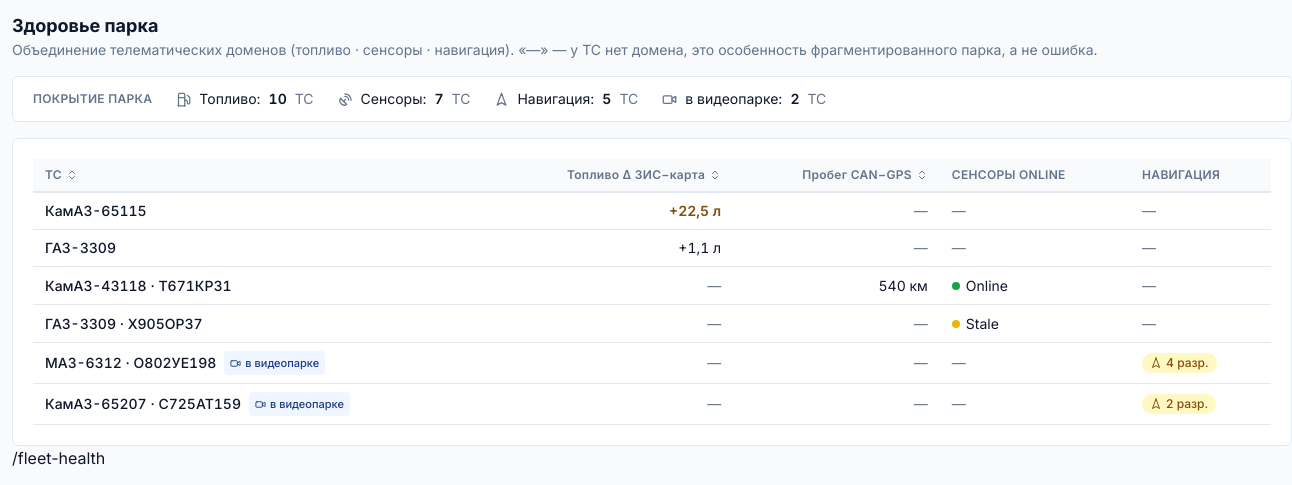
Test: FleetHealth · хаб «Здоровье парка» › клик по строке с сенсорами → /fleet-health/sensors/:plate
Expected: the text "Покрытие парка" is shown, [33,91,152,107]
Click the text "КамАЗ-43118 · Т671КР31".
click(138, 286)  # box [45,276,232,296]
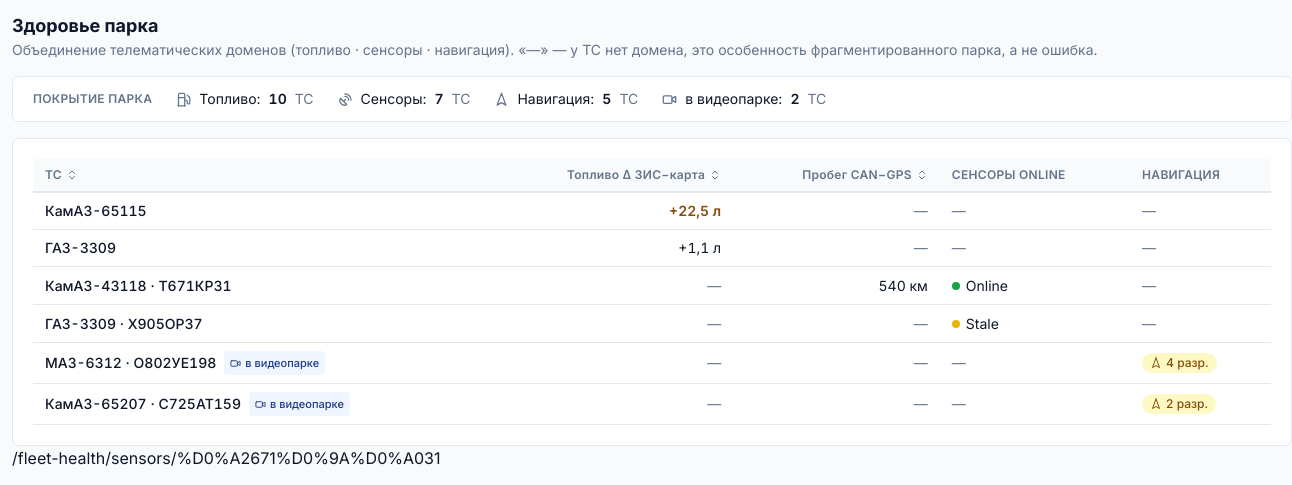
Result: the text with test id "loc" shows "/fleet-health/sensors/" at [12,448,440,468]
